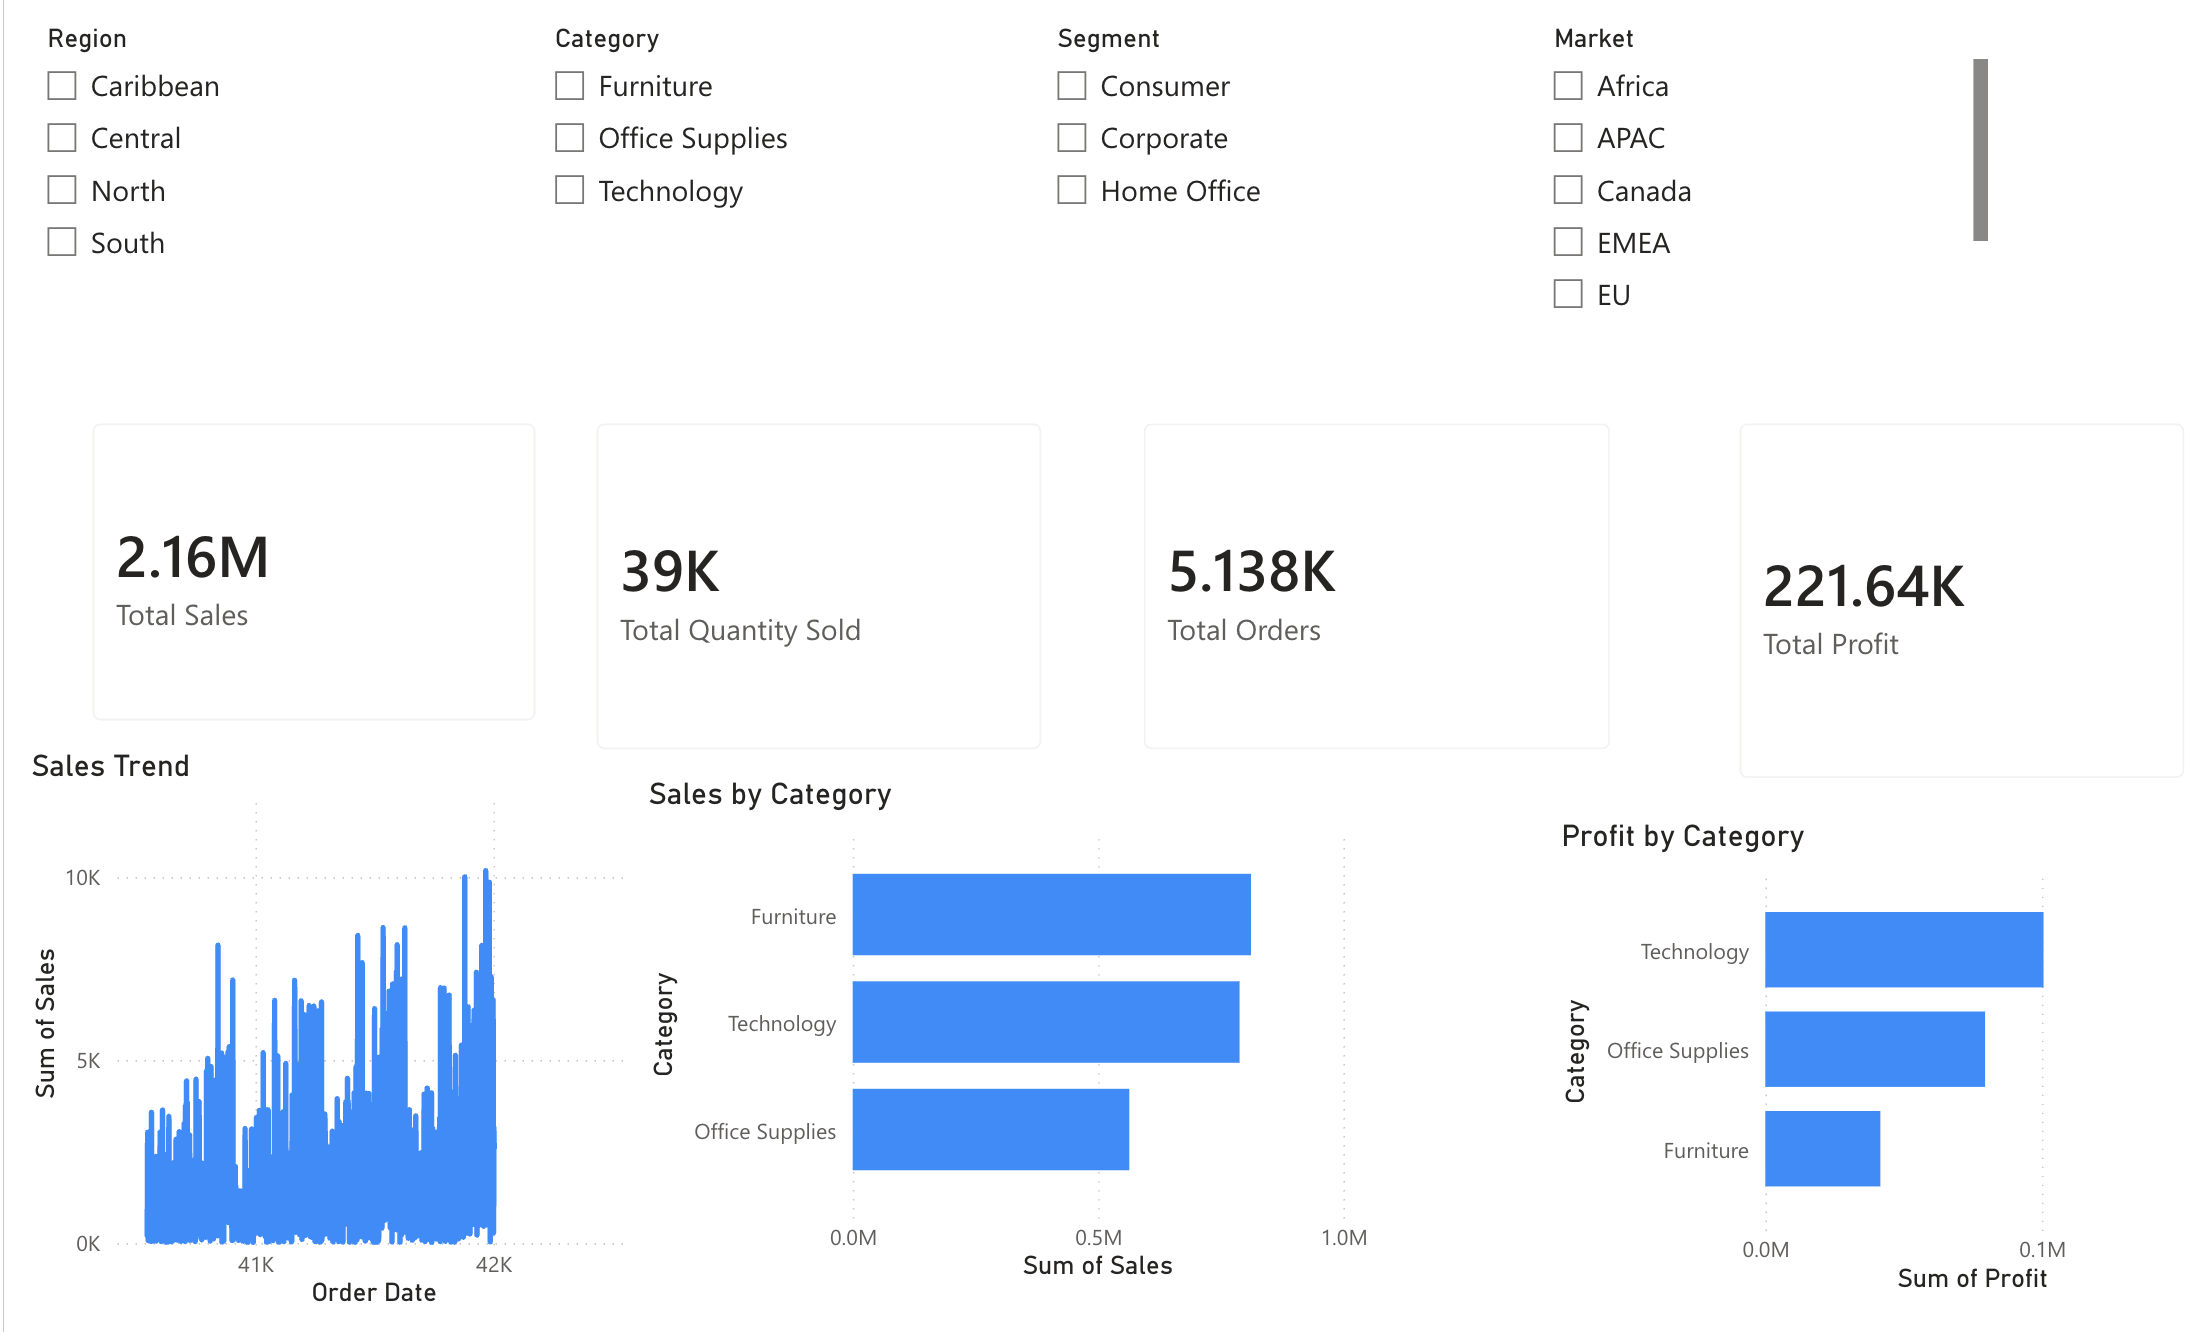

The page's visual inventory and layout, read from the dashboard file:
{"tool":"powerbi","page":{"name":"Overview Dashboard","canvas":[1280,720],"ordinal":0},"visuals":[{"type":"cardVisual","title":"Total Sales","fields":{"Data":["Sum(Orders.Sales)"]},"box":[21.8,207.8,280.4,199],"z":0},{"type":"cardVisual","title":"Total Profit","fields":{"Data":["Sum(Orders.Profit)"]},"box":[937.1,207.8,280.4,231],"z":1000},{"type":"cardVisual","title":"Total Quantity Sold","fields":{"Data":["Sum(Orders.Quantity)"]},"box":[302.2,207.8,280.4,215],"z":2000},{"type":"cardVisual","title":"Total Orders","fields":{"Data":["Count(Orders.Order ID)"]},"box":[605.9,207.8,293.5,215],"z":3000},{"type":"lineChart","title":"Sales Trend","fields":{"Y":["Sum(Orders.Sales)"],"Category":["Orders.Order Date"]},"box":[0,406.8,342.9,313.8],"z":4000},{"type":"clusteredBarChart","title":"    Sales by Category","fields":{"Category":["Orders.Category"],"Y":["Sum(Orders.Sales)"]},"box":[342.9,422.8,409.7,283.3],"z":5000},{"type":"clusteredBarChart","title":"    Profit by Category","fields":{"Category":["Orders.Category"],"Y":["Sum(Orders.Profit)"]},"box":[849.9,446,367.6,267.3],"z":5001},{"type":"slicer","fields":{"Values":["Orders.Category"]},"box":[282.5,0,280,171.2],"z":5003},{"type":"slicer","fields":{"Values":["Orders.Segment"]},"box":[562,0,276,171],"z":5004},{"type":"slicer","fields":{"Values":["Orders.Market"]},"box":[838,0,259,171],"z":5005},{"type":"slicer","fields":{"Values":["Orders.Region"]},"box":[1,0,280,171],"z":5006}]}

Visuals, with their boxes on the page's 1280x720 design canvas (x1, y1, x2, y2). These are canvas units, not pixel positions in the 2192x1332 screenshot, which may show the page scaled, cropped or inside an application window:
"Total Sales" cardVisual: bbox=(22, 208, 302, 407)
"Total Profit" cardVisual: bbox=(937, 208, 1218, 439)
"Total Quantity Sold" cardVisual: bbox=(302, 208, 583, 423)
"Total Orders" cardVisual: bbox=(606, 208, 899, 423)
"Sales Trend" lineChart: bbox=(0, 407, 343, 721)
"    Sales by Category" clusteredBarChart: bbox=(343, 423, 753, 706)
"    Profit by Category" clusteredBarChart: bbox=(850, 446, 1218, 713)
slicer - Orders.Category: bbox=(282, 0, 562, 171)
slicer - Orders.Segment: bbox=(562, 0, 838, 171)
slicer - Orders.Market: bbox=(838, 0, 1097, 171)
slicer - Orders.Region: bbox=(1, 0, 281, 171)
